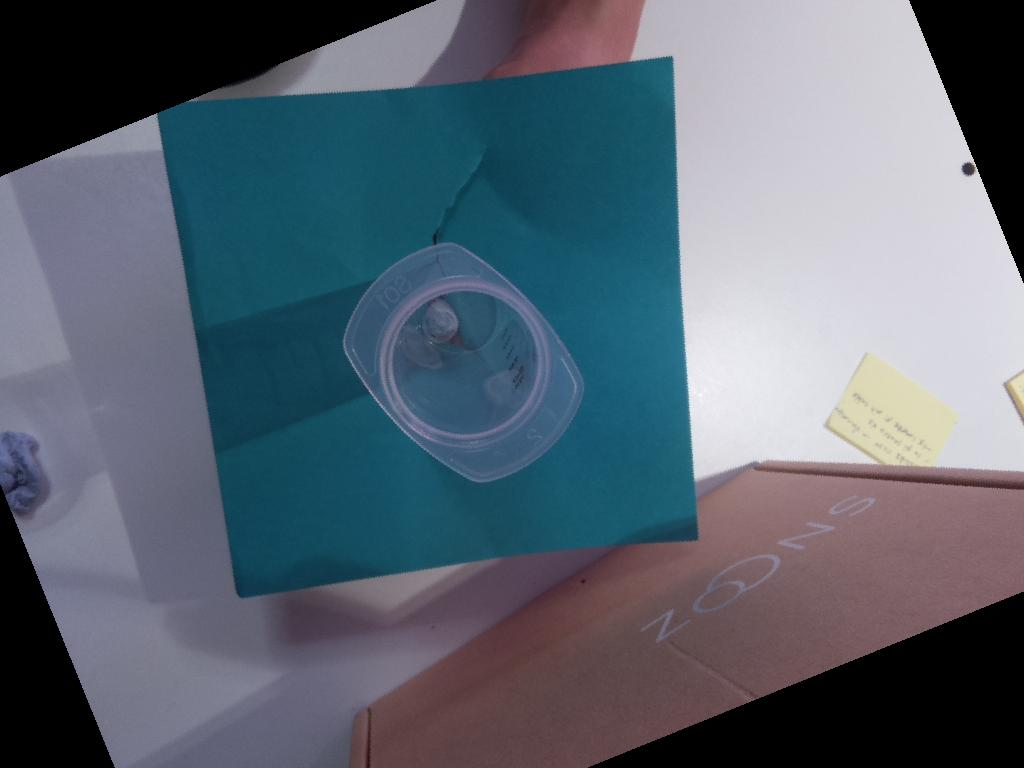clean: (343, 241, 586, 485)
